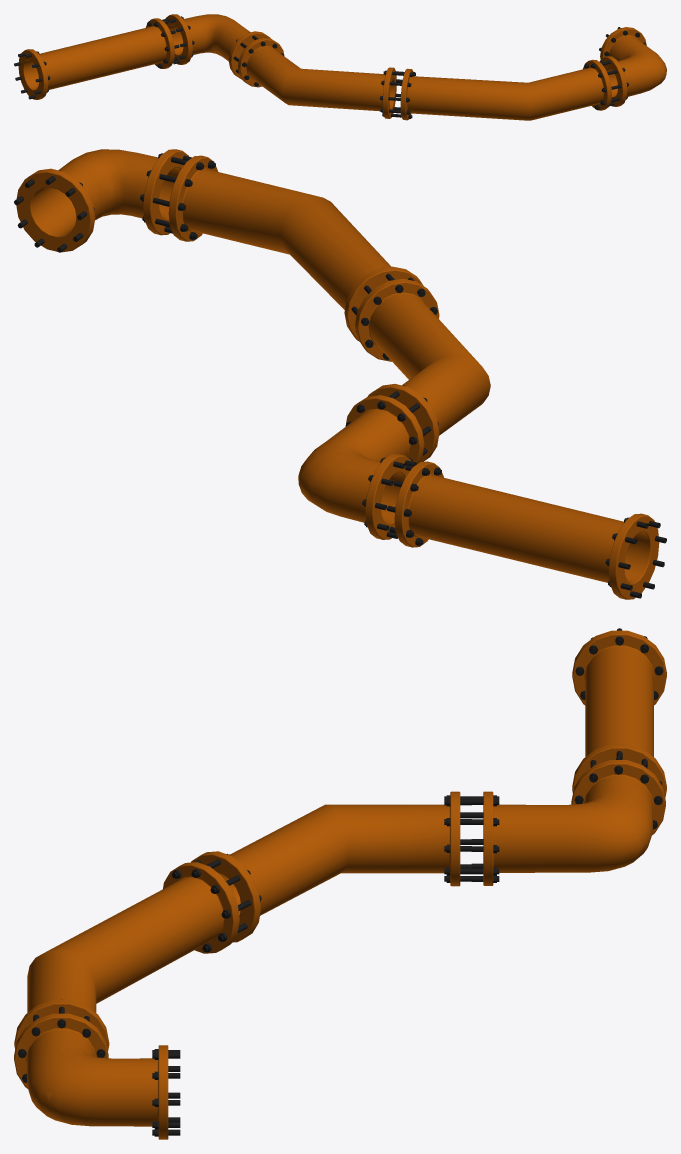
File: industrial_pipes_2_1.FBX
The picture shows the model from 3 angles, top to bottom: view 1: azimuth 30°, elevation 25°; view 2: azimuth 150°, elevation 25°; view 3: azimuth 270°, elevation 25°; orthographic projection. The views are drawn at different scales.
Visible parts, largest first — view 1: Cylinder009, Cylinder008, Cylinder006, Cylinder010, Cylinder007; view 2: Cylinder006, Cylinder009, Cylinder008, Cylinder010, Cylinder007; view 3: Cylinder008, Cylinder009, Cylinder007, Cylinder010, Cylinder006.
Boxes of the visible parts, x1,y1,x2,y2 form: Cylinder009: (394, 59, 616, 120); Cylinder008: (236, 38, 402, 118); Cylinder006: (14, 18, 179, 99); Cylinder010: (599, 27, 666, 106); Cylinder007: (162, 14, 270, 79); Cylinder006: (387, 461, 666, 599); Cylinder009: (161, 155, 423, 341); Cylinder008: (355, 278, 490, 462); Cylinder010: (14, 149, 191, 252); Cylinder007: (298, 395, 426, 539); Cylinder008: (191, 791, 471, 942); Cylinder009: (14, 862, 243, 1050); Cylinder007: (471, 757, 665, 885); Cylinder010: (14, 1011, 180, 1139); Cylinder006: (572, 628, 666, 797).
Size of the model in its own units: 2190 by 194 by 1358.
